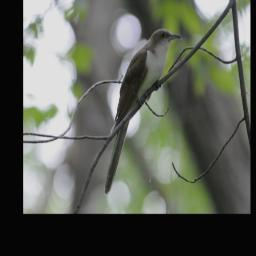Cuckoo: (101, 26, 182, 197)
